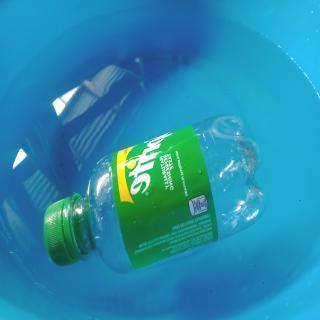bottle: (44, 113, 267, 274)
